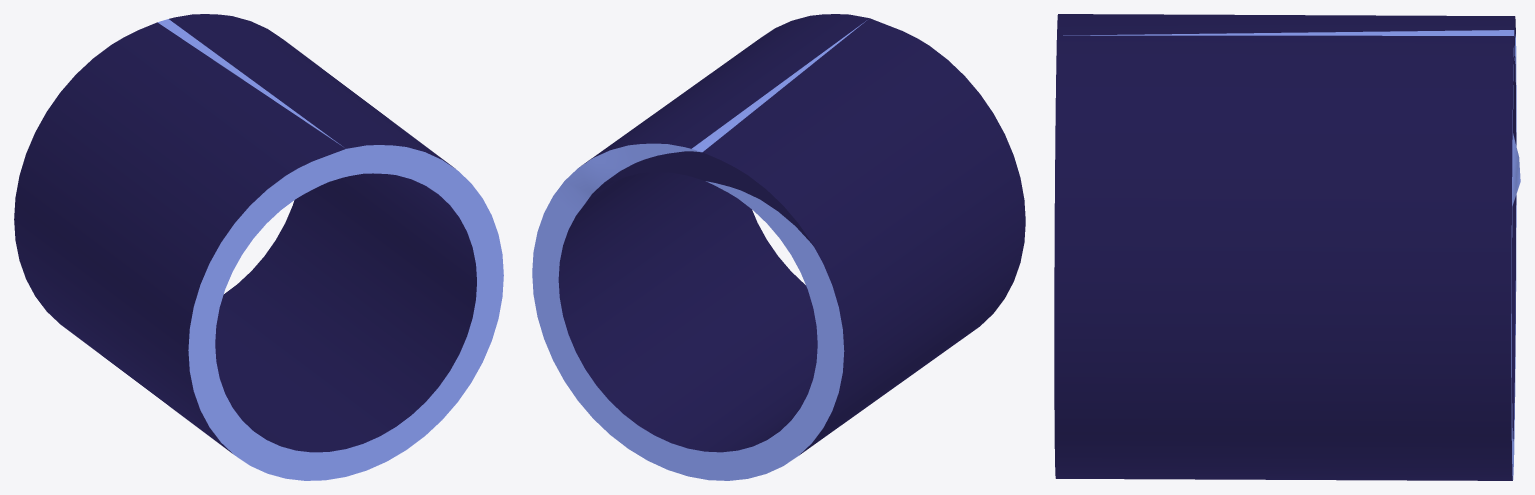
The picture shows the model from 3 angles, left to right: view 1: azimuth 30°, elevation 25°; view 2: azimuth 150°, elevation 25°; view 3: azimuth 270°, elevation 25°; orthographic projection. The views are drawn at different scales.
Parts seen in each view (by area): view 1: Torus_0; view 2: Torus_0; view 3: Torus_0.
Part boxes in pixels (left/top/right/bottom): Torus_0: left=14, top=14, right=503, bottom=480; Torus_0: left=532, top=14, right=1025, bottom=480; Torus_0: left=1054, top=14, right=1520, bottom=480.
Size of the model in its own units: 1.01 by 1 by 1.
